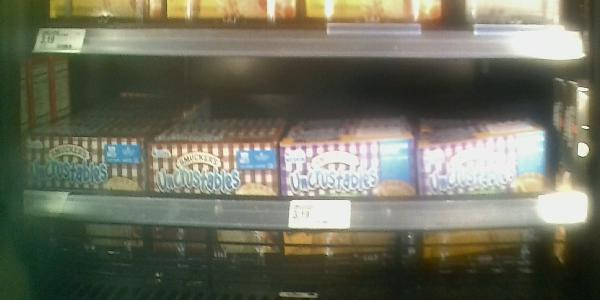icecream: (279, 134, 415, 273), (417, 136, 546, 262), (152, 137, 279, 264), (24, 133, 144, 262)
